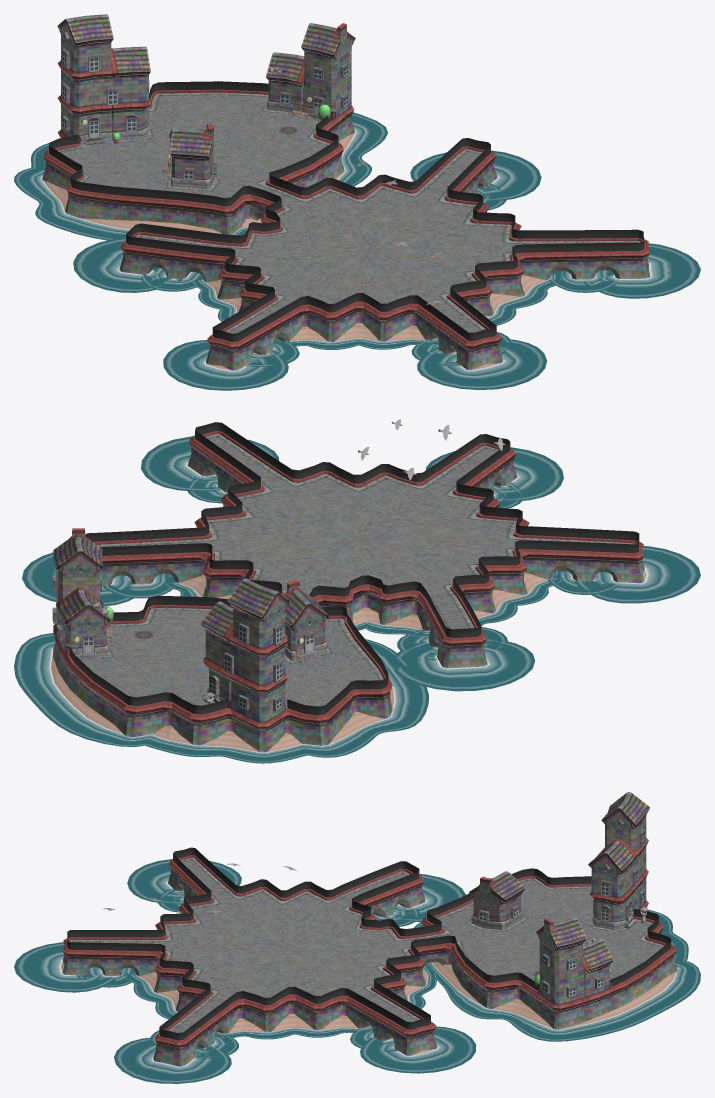
Rendered from TestMap.gltf.
3 views of the same model, one above another, from view 1: azimuth 30°, elevation 25°; view 2: azimuth 150°, elevation 25°; view 3: azimuth 270°, elevation 25° (orthographic). The views are drawn at different scales.
Visible parts, largest first — view 1: TestMap; view 2: TestMap; view 3: TestMap.
Boxes of the visible parts, x1,y1,x2,y2 form: TestMap: (14,14,700,390); TestMap: (14,419,700,763); TestMap: (14,792,700,1083).
Bounding box in the file's own units: 15.52 × 4.14 × 19.99.
1 material, 1 textured.
